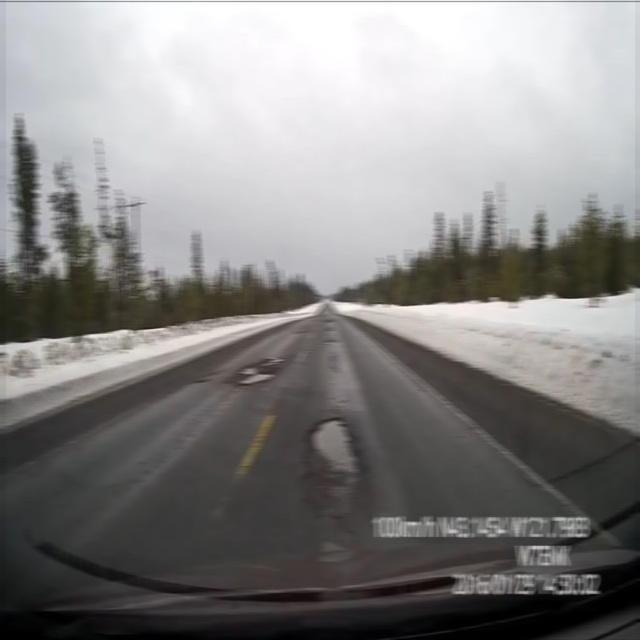Pothole: (307, 414, 367, 478), (221, 351, 290, 390), (317, 530, 352, 564), (319, 350, 343, 373), (321, 336, 336, 346), (321, 325, 339, 333), (324, 315, 341, 323), (288, 330, 308, 336)
